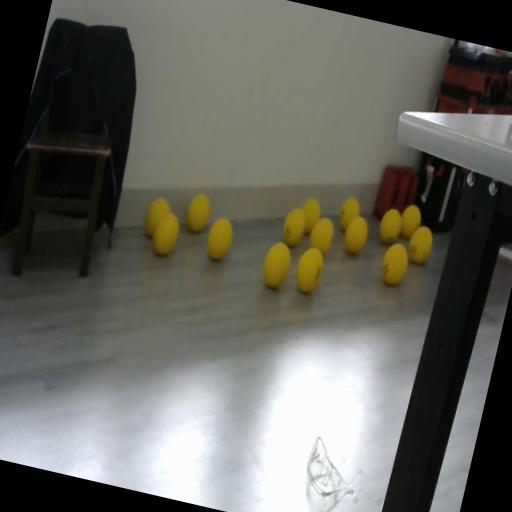FUEL: (258, 238, 296, 291), (290, 244, 328, 296), (202, 214, 238, 264), (378, 240, 412, 288), (306, 214, 339, 258), (182, 190, 214, 235), (340, 214, 372, 258), (142, 196, 172, 240), (406, 222, 436, 266), (376, 206, 405, 247), (297, 196, 324, 236), (397, 202, 424, 241)
